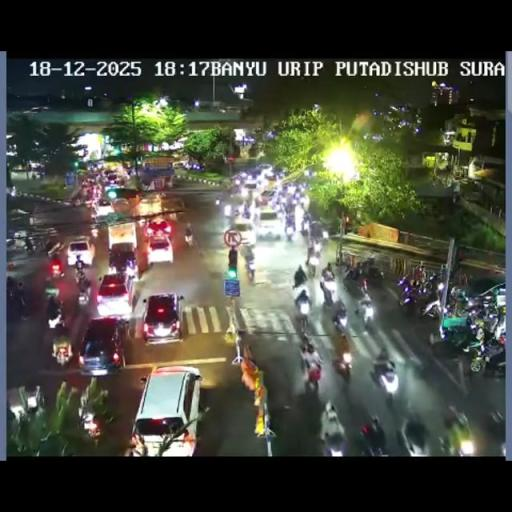Car: (130, 364, 202, 454), (78, 316, 128, 376), (141, 292, 183, 344), (95, 272, 136, 318), (8, 385, 42, 423), (108, 243, 138, 276), (136, 192, 166, 223), (146, 232, 174, 263), (254, 208, 282, 238), (66, 239, 94, 267), (232, 216, 255, 246), (94, 197, 115, 220), (258, 188, 275, 206), (242, 173, 260, 189), (103, 169, 121, 185), (254, 164, 274, 178), (172, 160, 185, 169)
Motorcycle: (306, 258, 370, 342), (428, 319, 470, 359), (466, 330, 504, 374), (442, 409, 474, 454), (370, 358, 398, 395), (483, 406, 506, 451), (402, 415, 428, 453), (360, 418, 386, 454), (397, 278, 420, 312), (462, 300, 492, 326), (331, 348, 352, 382), (79, 408, 101, 440), (322, 429, 346, 455), (448, 284, 468, 315), (303, 359, 321, 393), (354, 294, 374, 324), (126, 430, 149, 456), (294, 288, 311, 322), (421, 295, 443, 320), (420, 272, 442, 297), (75, 272, 92, 304), (53, 339, 72, 367), (454, 356, 468, 391), (492, 308, 506, 338), (30, 237, 52, 256), (14, 293, 30, 319), (47, 306, 64, 329), (319, 279, 334, 305), (332, 308, 347, 333), (44, 277, 59, 300), (116, 317, 130, 341), (324, 401, 338, 424), (243, 256, 255, 282), (346, 263, 362, 282), (375, 346, 390, 364), (306, 254, 318, 276), (6, 276, 18, 298), (50, 260, 63, 280), (90, 185, 102, 204), (229, 180, 243, 196), (294, 266, 304, 286), (299, 226, 310, 244), (358, 275, 369, 293), (322, 265, 334, 281), (284, 210, 294, 228), (299, 192, 309, 210), (184, 230, 194, 247), (312, 240, 322, 257), (284, 226, 294, 242), (222, 202, 232, 218), (320, 229, 329, 246), (246, 187, 254, 205), (72, 194, 82, 207), (242, 202, 250, 218), (6, 236, 16, 248), (233, 208, 241, 221), (90, 225, 98, 238), (214, 196, 222, 206), (32, 171, 38, 179)
